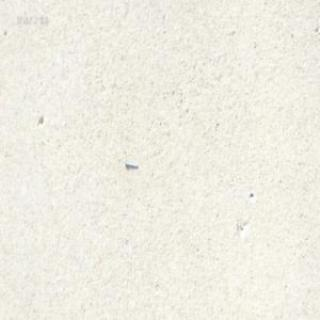Nailtrack_idkeyframe: (123, 158, 137, 167)
